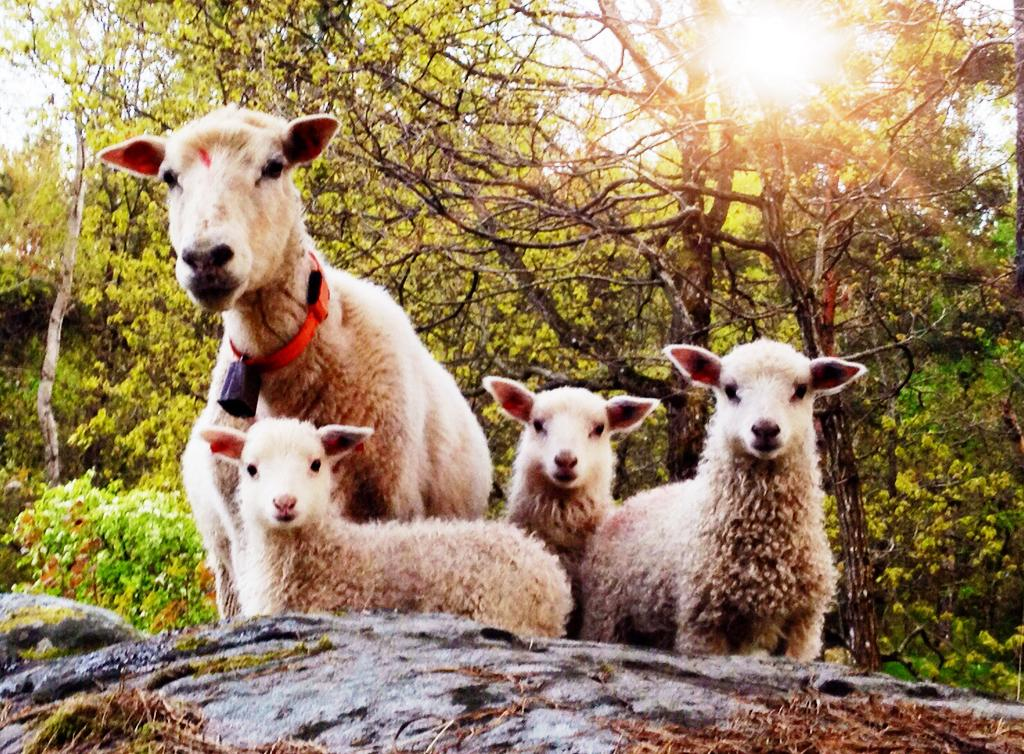Sheep: (94, 103, 491, 516), (589, 335, 868, 688), (185, 419, 557, 618), (471, 373, 655, 565)
